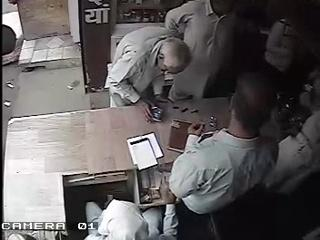Normal: (168, 72, 317, 239), (164, 0, 266, 102), (106, 25, 192, 118)
